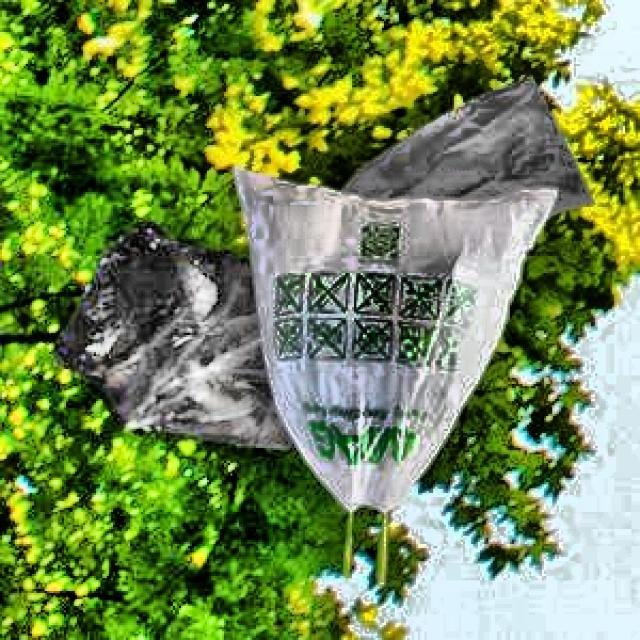Plastic: (232, 163, 544, 524), (51, 202, 370, 454), (292, 71, 601, 289)
